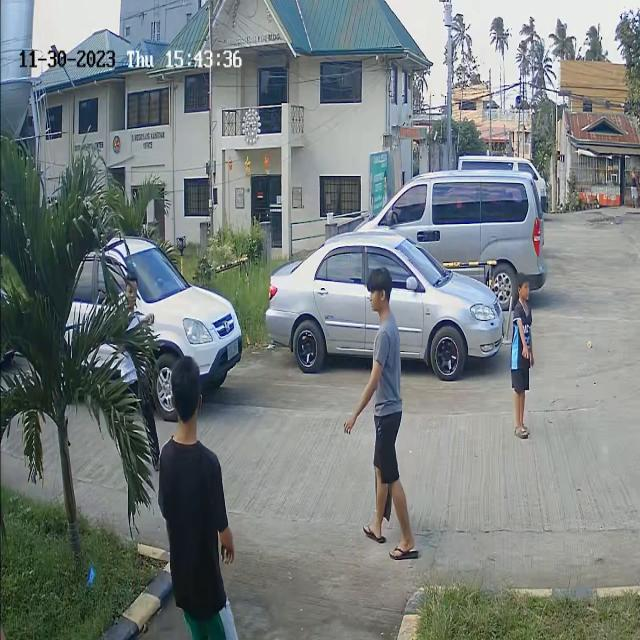person: (167, 361, 214, 528), (365, 272, 404, 401), (508, 274, 539, 388)
